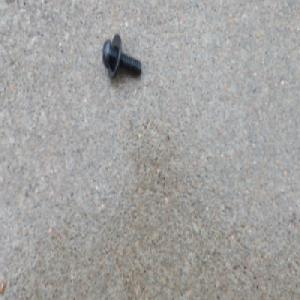BoltWasher: (101, 32, 142, 80)
